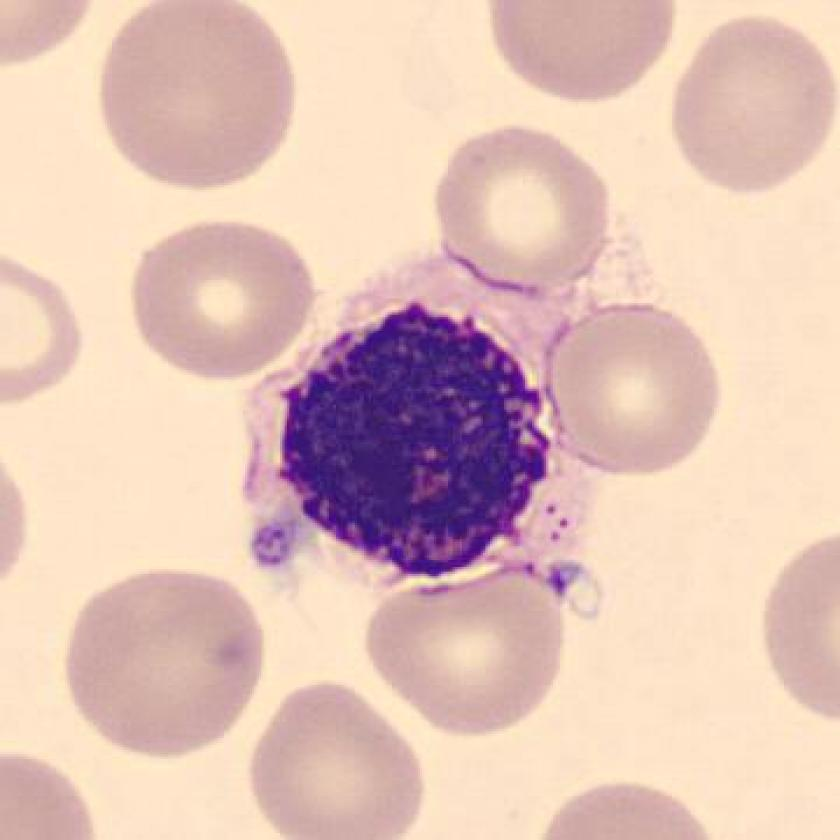basophil: (260, 274, 554, 593)
